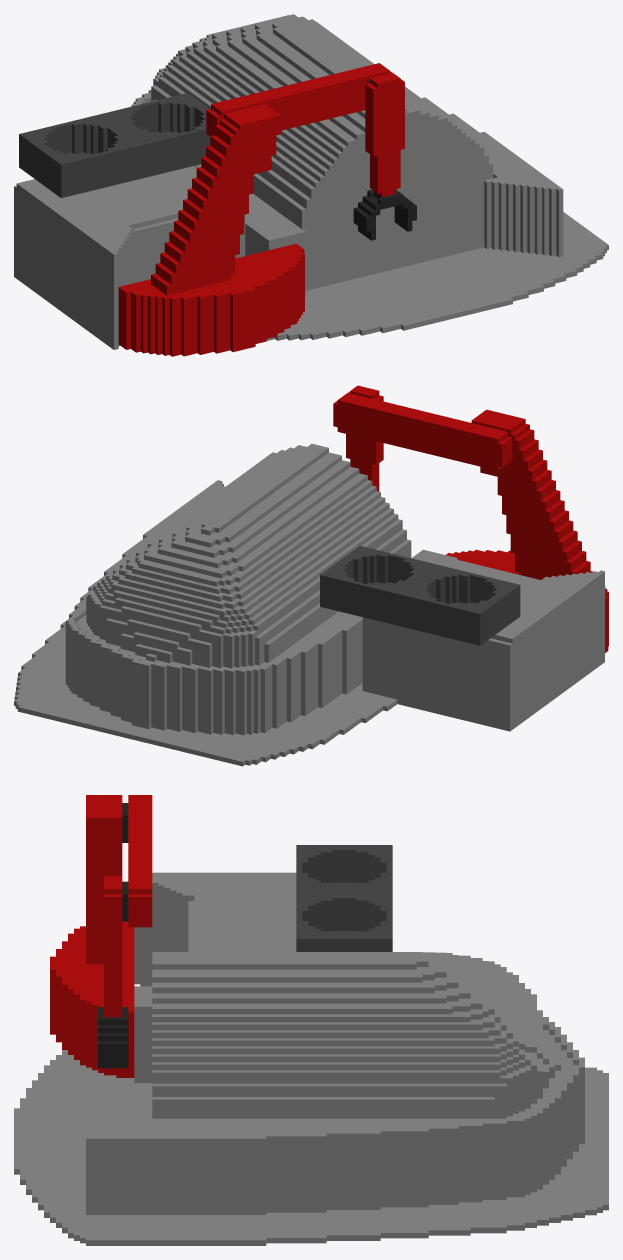
Rendered from NodConstructionYardBody.obj.
3 renders of one model, top to bottom at view 1: azimuth 30°, elevation 25°; view 2: azimuth 150°, elevation 25°; view 3: azimuth 270°, elevation 25°, orthographic. The views are drawn at different scales.
Size of the model in its own units: 10.4 by 4.5 by 9.9.
Materials: 1 (1 with a texture image).
